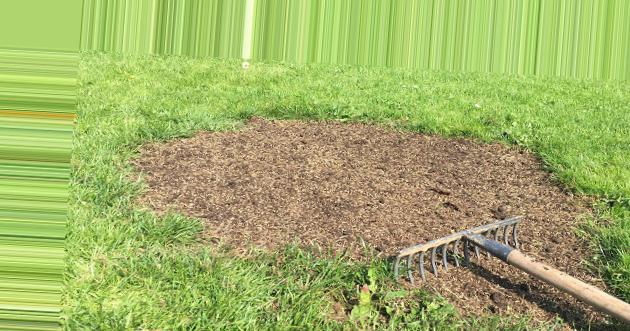patch: (143, 145, 502, 221), (321, 224, 399, 247)
